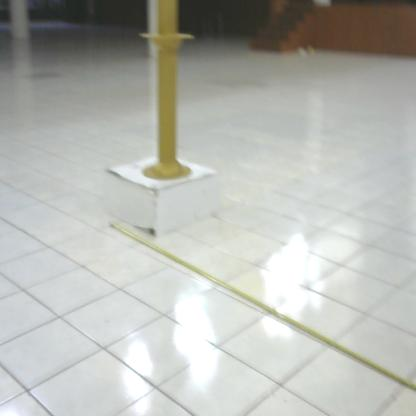pole: (137, 1, 199, 188)
